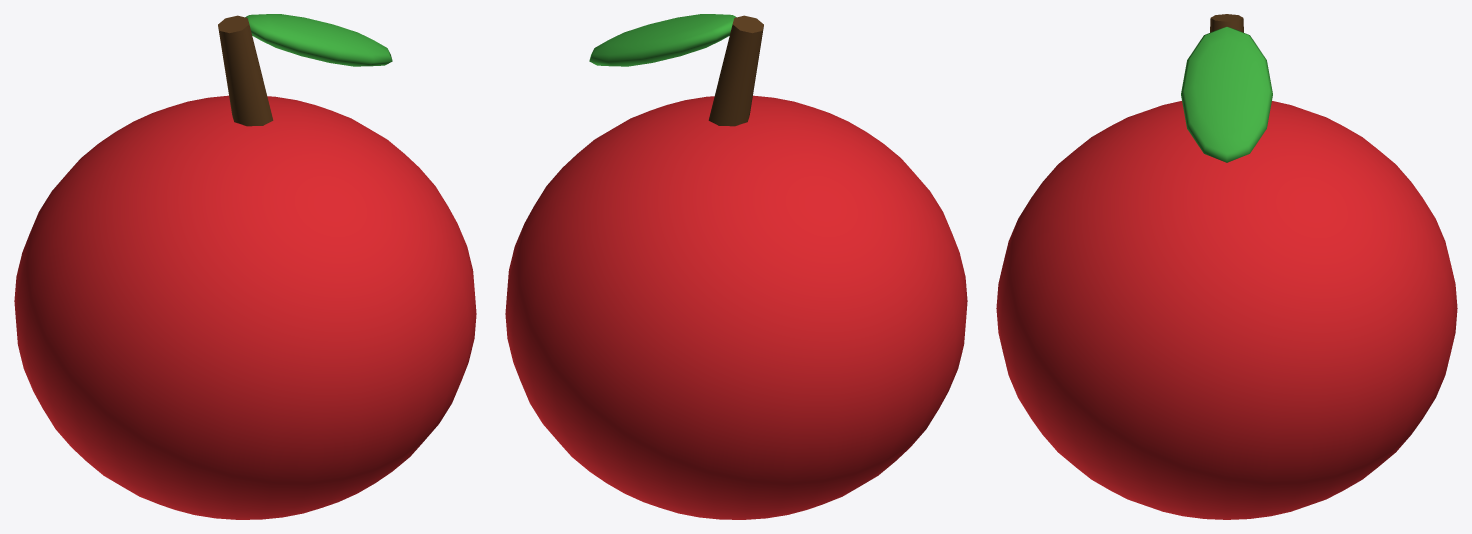
The model's file is apple.glb.
3 renders of one model, left to right at view 1: azimuth 30°, elevation 25°; view 2: azimuth 150°, elevation 25°; view 3: azimuth 270°, elevation 25°, orthographic.
Parts seen in each view (by area): view 1: Apple; view 2: Apple; view 3: Apple.
Boxes of the visible parts, x1=… form: Apple: x1=14, y1=14, x2=476, y2=519; Apple: x1=505, y1=14, x2=967, y2=519; Apple: x1=996, y1=14, x2=1457, y2=519.
Size of the model in its own units: 0.84 by 0.9565 by 0.84.
